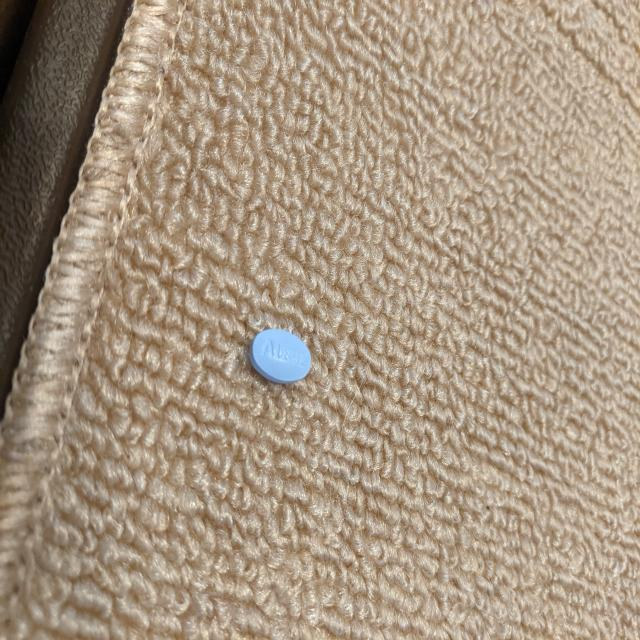non-organic waste: (248, 327, 312, 385)
